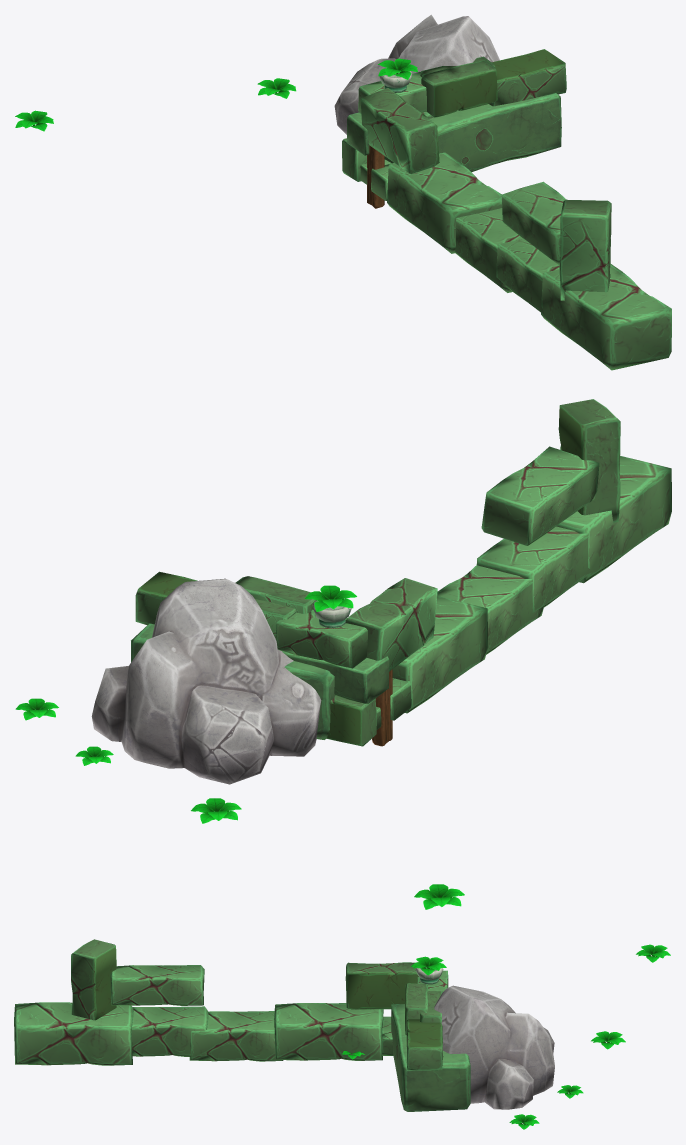
File: deco_down_right.obj
3 views of the same model, one above another, from view 1: azimuth 30°, elevation 25°; view 2: azimuth 150°, elevation 25°; view 3: azimuth 270°, elevation 25° (orthographic). The views are drawn at different scales.
Parts seen in each view (by area): view 1: brick3_low.099, brick2_low.023, brick3_low.102, rock1_low.004, brick3_low.114, brick3_low.091, brick3_low.093, brick3_low.020, brick3_low.090, brick3_low.101, brick3_low.100, brick3_low.088 (+6 smaller); view 2: rock1_low.004, brick3_low.093, brick3_low.099, brick3_low.102, brick3_low.100, brick3_low.091, brick3_low.114, brick3_low.101, brick3_low.088, brick2_low.022, brick3_low.027, brick2_low.023 (+7 smaller); view 3: rock1_low.004, brick3_low.099, brick3_low.102, brick2_low.023, brick3_low.101, brick3_low.093, brick3_low.100, brick3_low.114, brick3_low.091, brick3_low.090, brick3_low.020, brick3_low.089 (+4 smaller).
Boxes of the visible parts, left/top/right/bottom form: brick3_low.099: left=541, top=263, right=671, bottom=370; brick2_low.023: left=384, top=93, right=561, bottom=172; brick3_low.102: left=387, top=152, right=502, bottom=253; rock1_low.004: left=334, top=14, right=499, bottom=134; brick3_low.114: left=559, top=199, right=611, bottom=300; brick3_low.091: left=360, top=88, right=439, bottom=173; brick3_low.093: left=502, top=181, right=566, bottom=264; brick3_low.020: left=421, top=60, right=497, bottom=117; brick3_low.090: left=489, top=49, right=566, bottom=106; brick3_low.101: left=455, top=208, right=522, bottom=292; brick3_low.100: left=496, top=238, right=559, bottom=314; brick3_low.088: left=358, top=72, right=426, bottom=113; rock1_low.004: left=91, top=578, right=321, bottom=784; brick3_low.093: left=481, top=446, right=599, bottom=545; brick3_low.099: left=556, top=456, right=671, bottom=583; brick3_low.102: left=392, top=596, right=487, bottom=713; brick3_low.100: left=476, top=526, right=591, bottom=612; brick3_low.091: left=345, top=578, right=437, bottom=671; brick3_low.114: left=558, top=399, right=620, bottom=522; brick3_low.101: left=437, top=565, right=543, bottom=654; brick3_low.088: left=275, top=609, right=367, bottom=668; brick2_low.022: left=282, top=651, right=389, bottom=703; brick3_low.027: left=327, top=695, right=376, bottom=746; brick2_low.023: left=131, top=623, right=335, bottom=739; rock1_low.004: left=434, top=985, right=554, bottom=1109; brick3_low.099: left=14, top=1002, right=133, bottom=1065; brick3_low.102: left=274, top=1003, right=383, bottom=1060; brick2_low.023: left=391, top=1004, right=470, bottom=1111; brick3_low.101: left=189, top=1011, right=283, bottom=1061; brick3_low.093: left=110, top=965, right=204, bottom=1005; brick3_low.100: left=131, top=1006, right=208, bottom=1056; brick3_low.114: left=71, top=939, right=116, bottom=1020; brick3_low.091: left=345, top=962, right=418, bottom=1009; brick3_low.090: left=406, top=1019, right=443, bottom=1070; brick3_low.020: left=405, top=983, right=427, bottom=1034; brick3_low.089: left=420, top=991, right=442, bottom=1022.
Size of the model in its own units: 737 by 209 by 1122.
